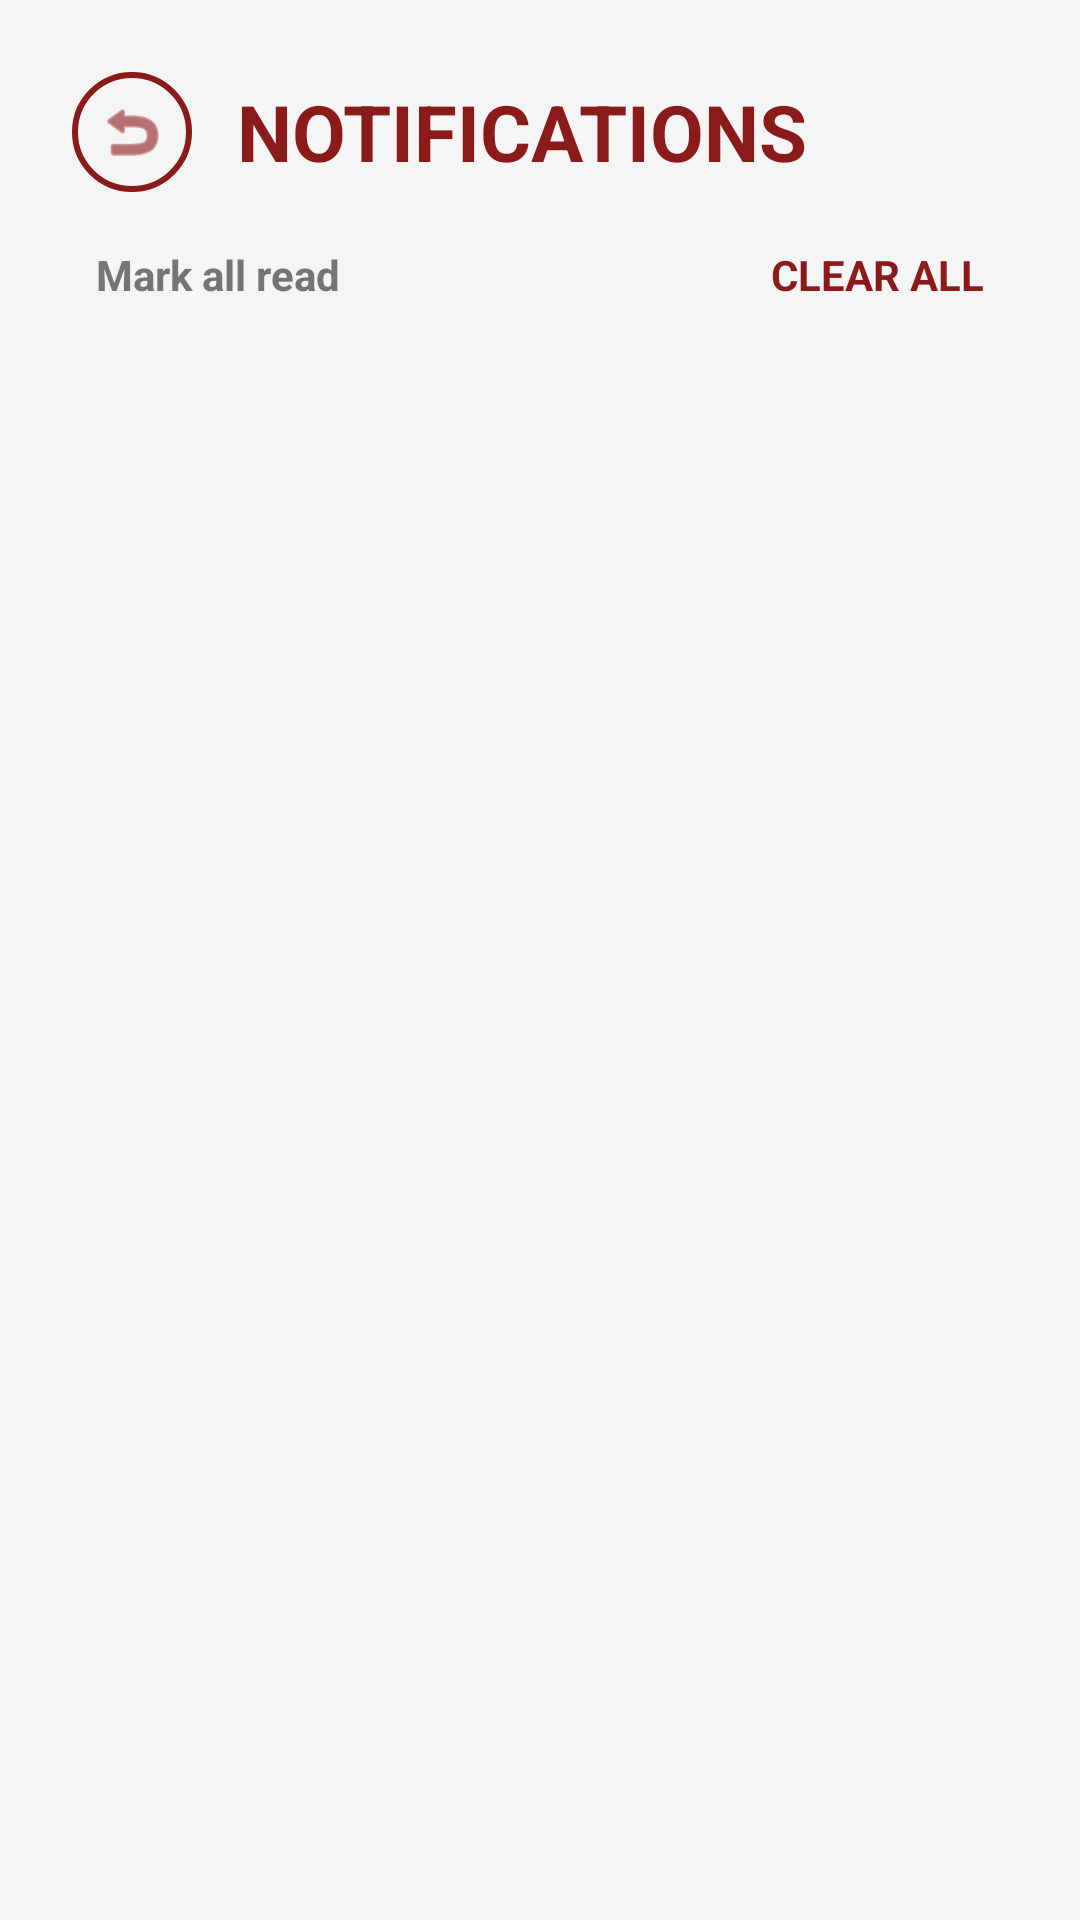

Icons on this 1080 × 1920 Android screen, each with the point to tap as [x,y]:
revert: [132,132]
